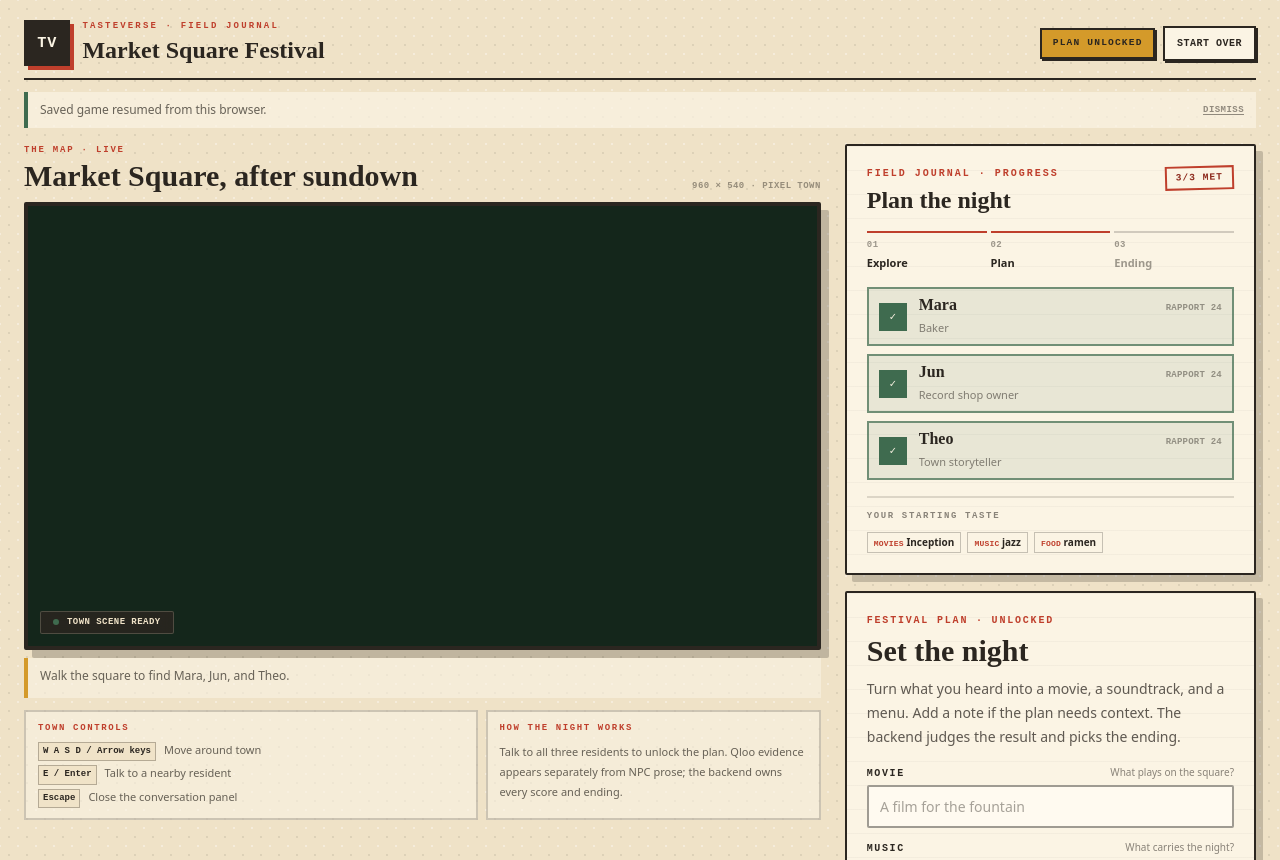
plan evaluation and endings › submits the plan and renders the backend Mixed Night ending
Type "Inception" into the field labelled "Movie What plays on the square?". click: x=1050, y=807
box: left=867, top=785, right=1234, bottom=828
(page scrolled)
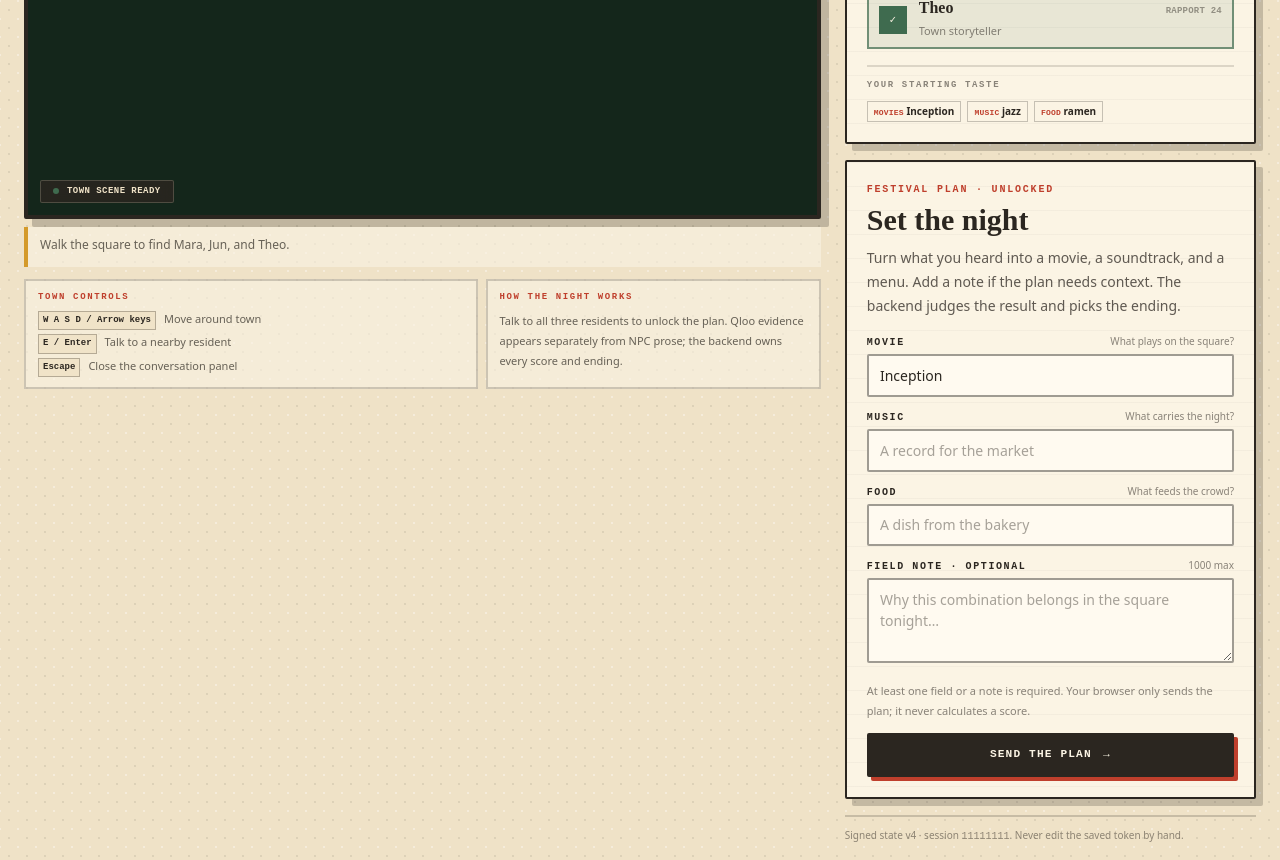
Type "jazz" into the field labelled "Music What carries the night?". click: x=1050, y=450
box: left=867, top=429, right=1234, bottom=472
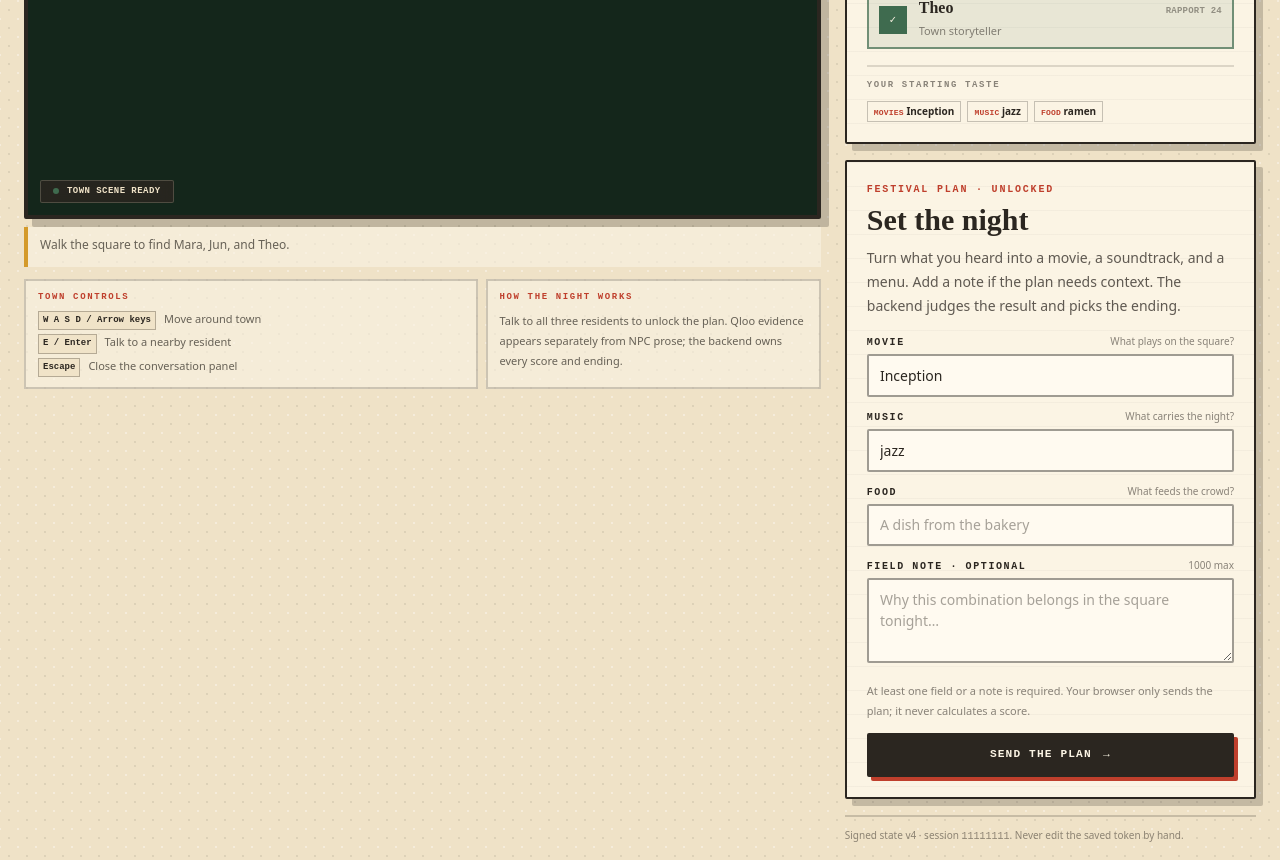
Type "ramen" into the field labelled "Food What feeds the crowd?". click: x=1050, y=525
box: left=867, top=504, right=1234, bottom=546
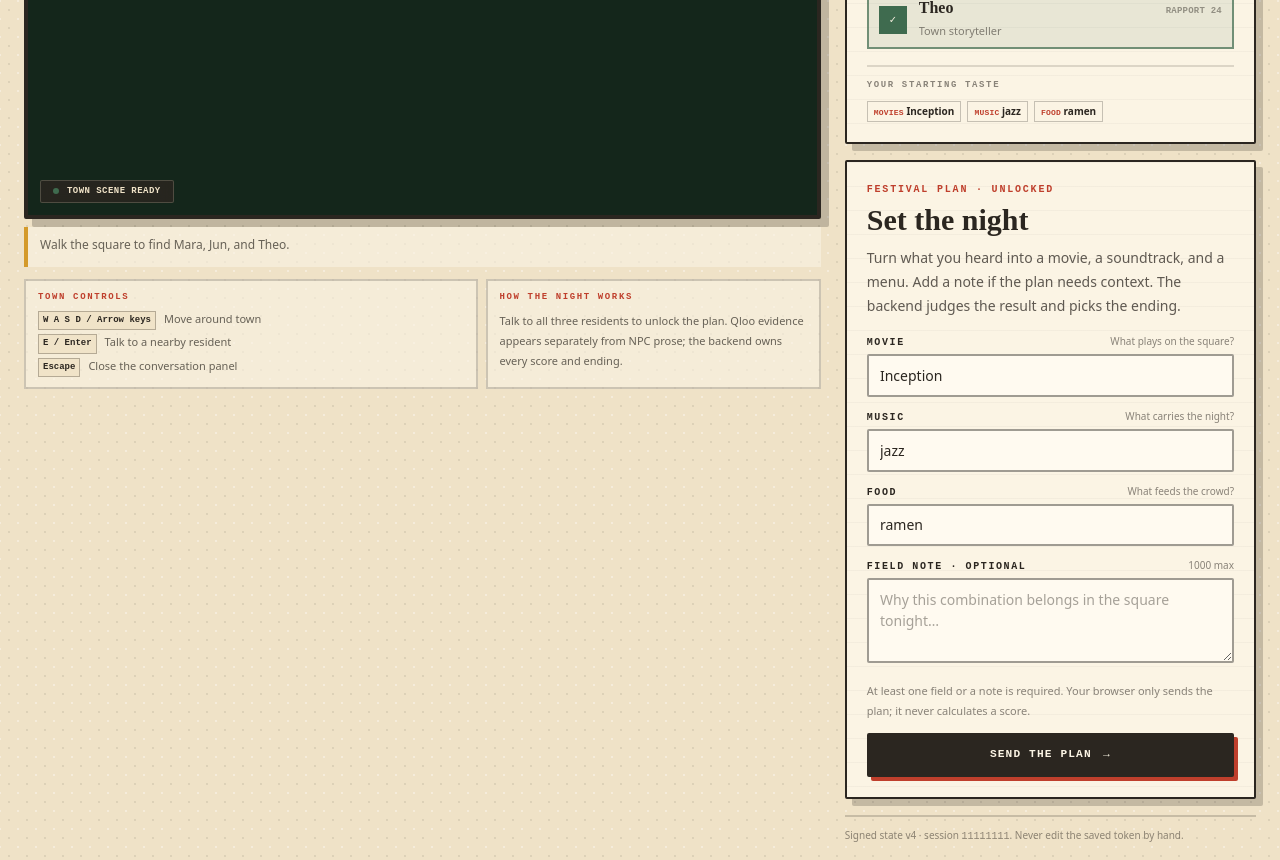
Click the button "Send the plan →". click: x=1050, y=755
box: left=867, top=733, right=1234, bottom=777
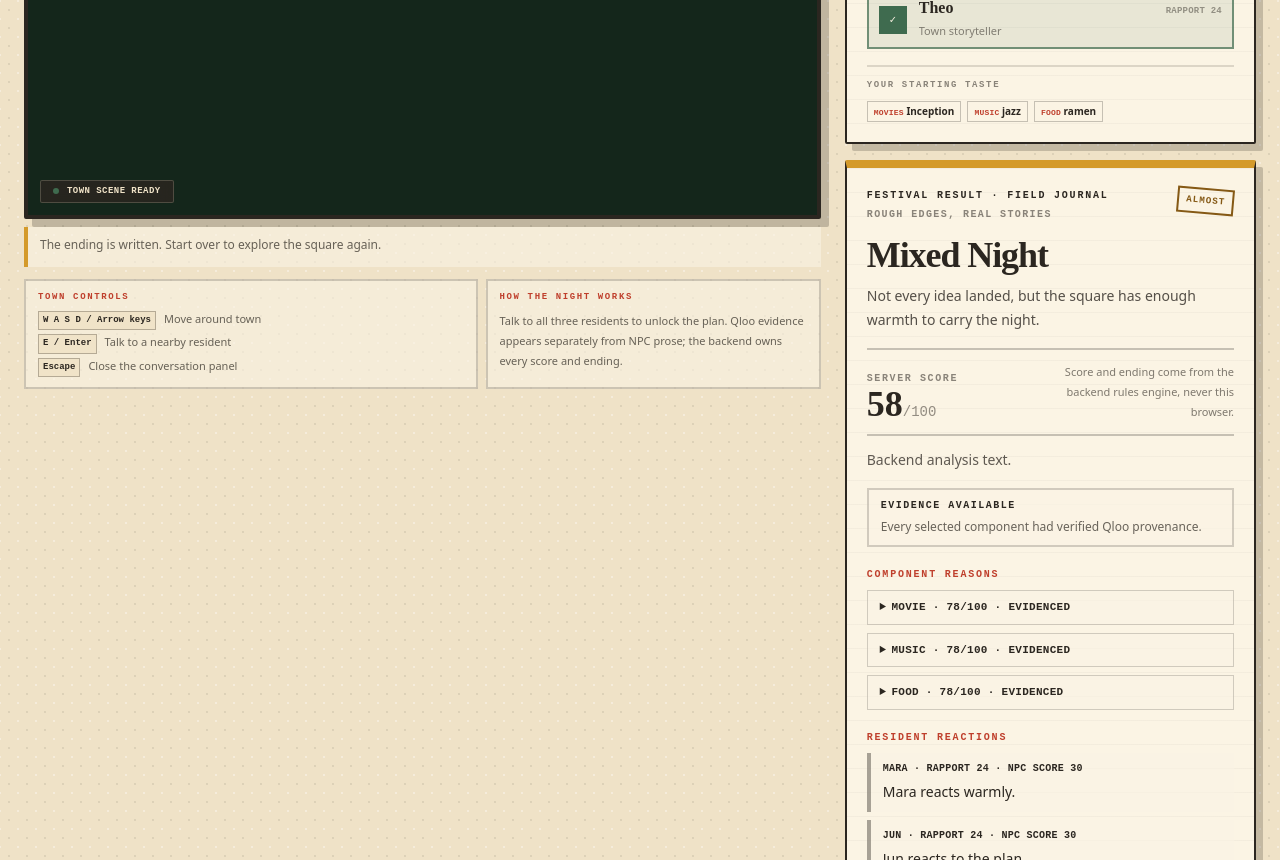
Now the heading "Mixed Night" is shown, box left=867, top=235, right=1048, bottom=275
Now the text "Evidence available" is shown, box left=881, top=500, right=1016, bottom=511
Now the text "Backend analysis text." is shown, box left=867, top=450, right=1011, bottom=469
